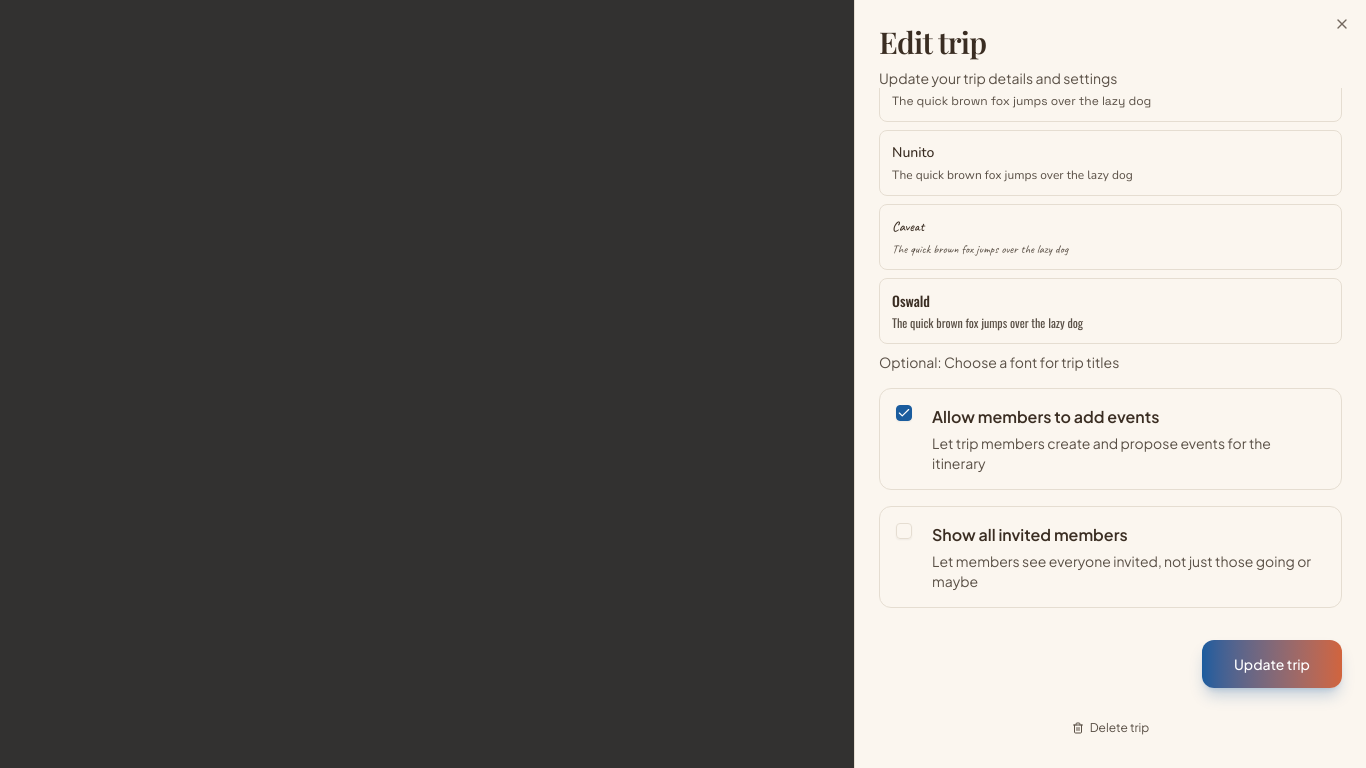
Test: EditTripDialog › Delete confirmation flow › cancels delete confirmation
(page scrolled)
What coordinates should you click on to do the following:
click the button "Delete trip"
I would click on:
 (1110, 728)
Its box is [1072,712,1149,744].
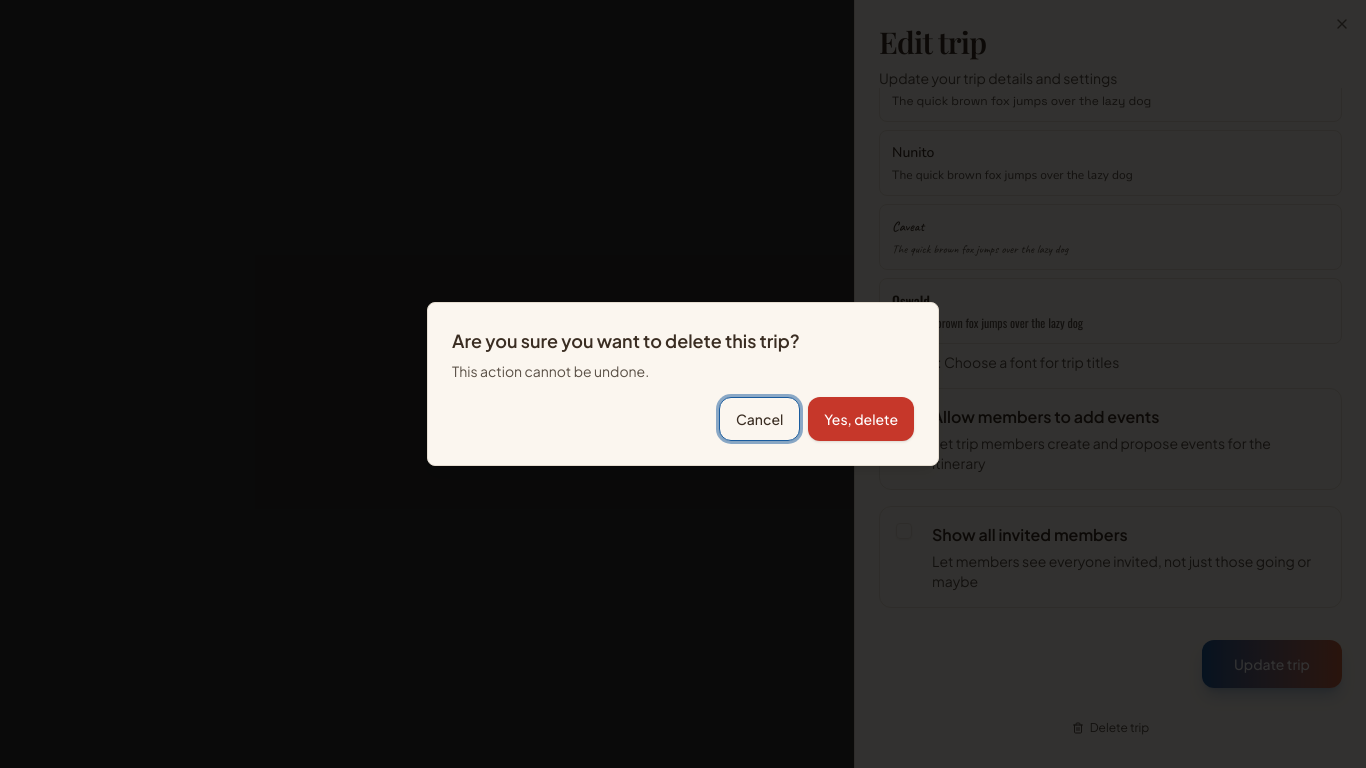
Now the heading "Are you sure you want to delete this trip?" is shown, box [452,327,800,355]
What coordinates should you click on to do the following:
click the button "Cancel"
I would click on:
 (760, 419)
Its box is [719,397,800,441].
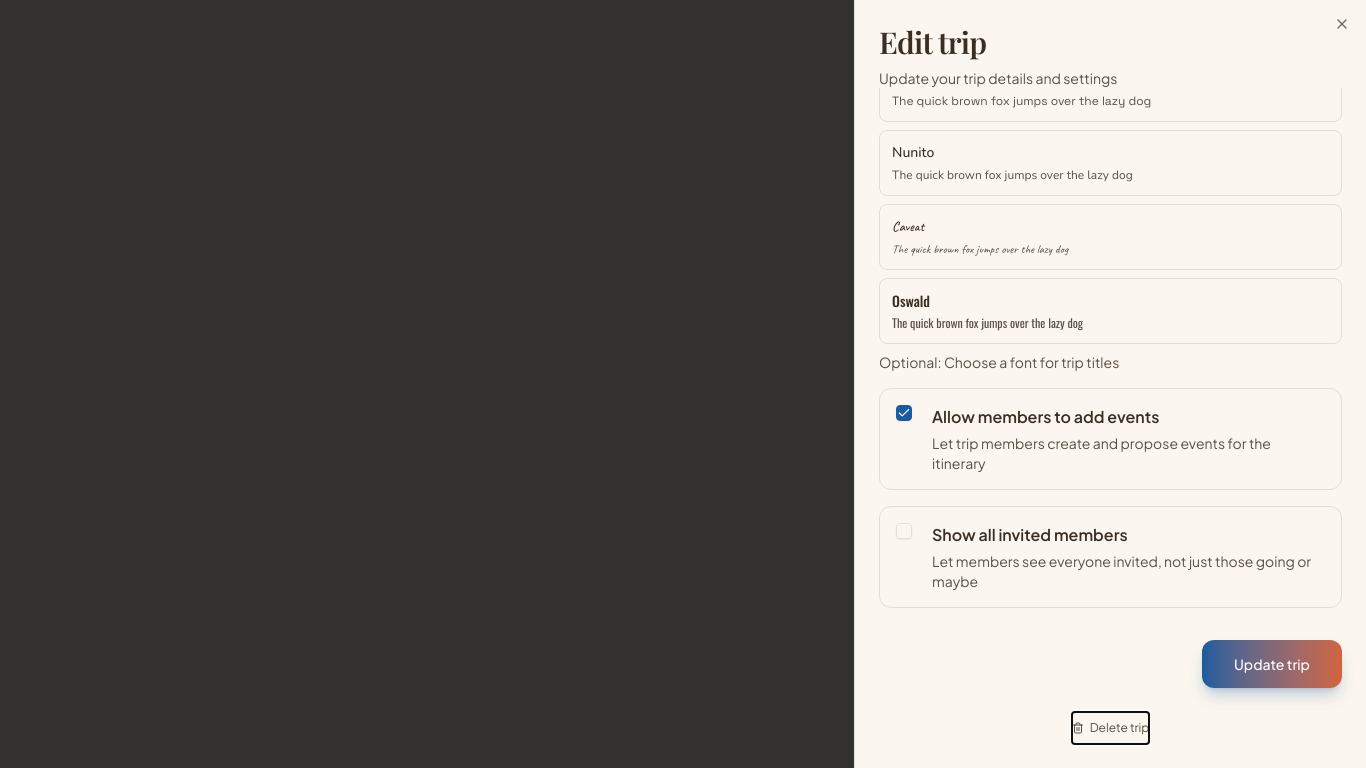
Now the heading "Are you sure you want to delete this trip" is gone
